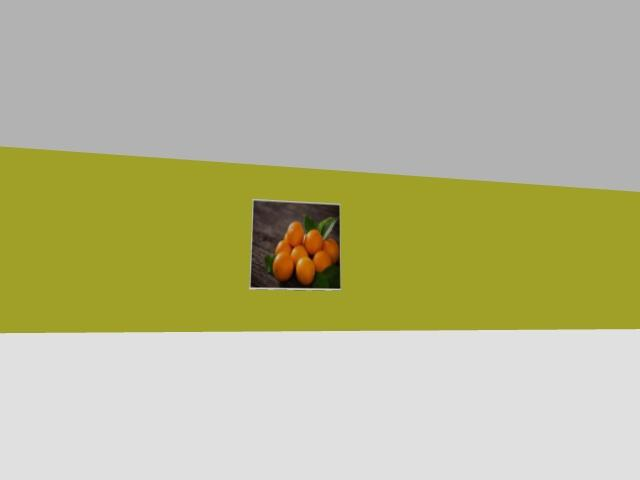orange: (273, 252, 293, 281), (297, 256, 315, 285), (304, 229, 322, 255), (287, 222, 303, 246), (323, 238, 338, 263), (314, 250, 331, 272), (291, 244, 308, 264), (276, 238, 291, 254)
